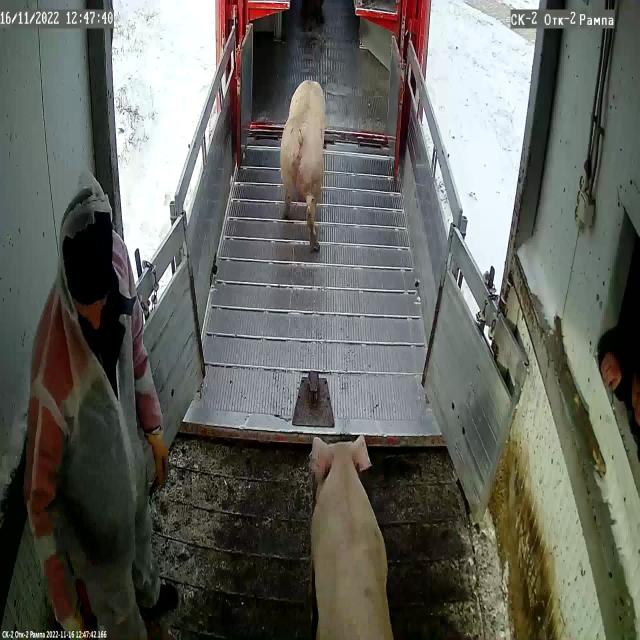pig: (312, 436, 395, 640), (281, 80, 326, 257)
